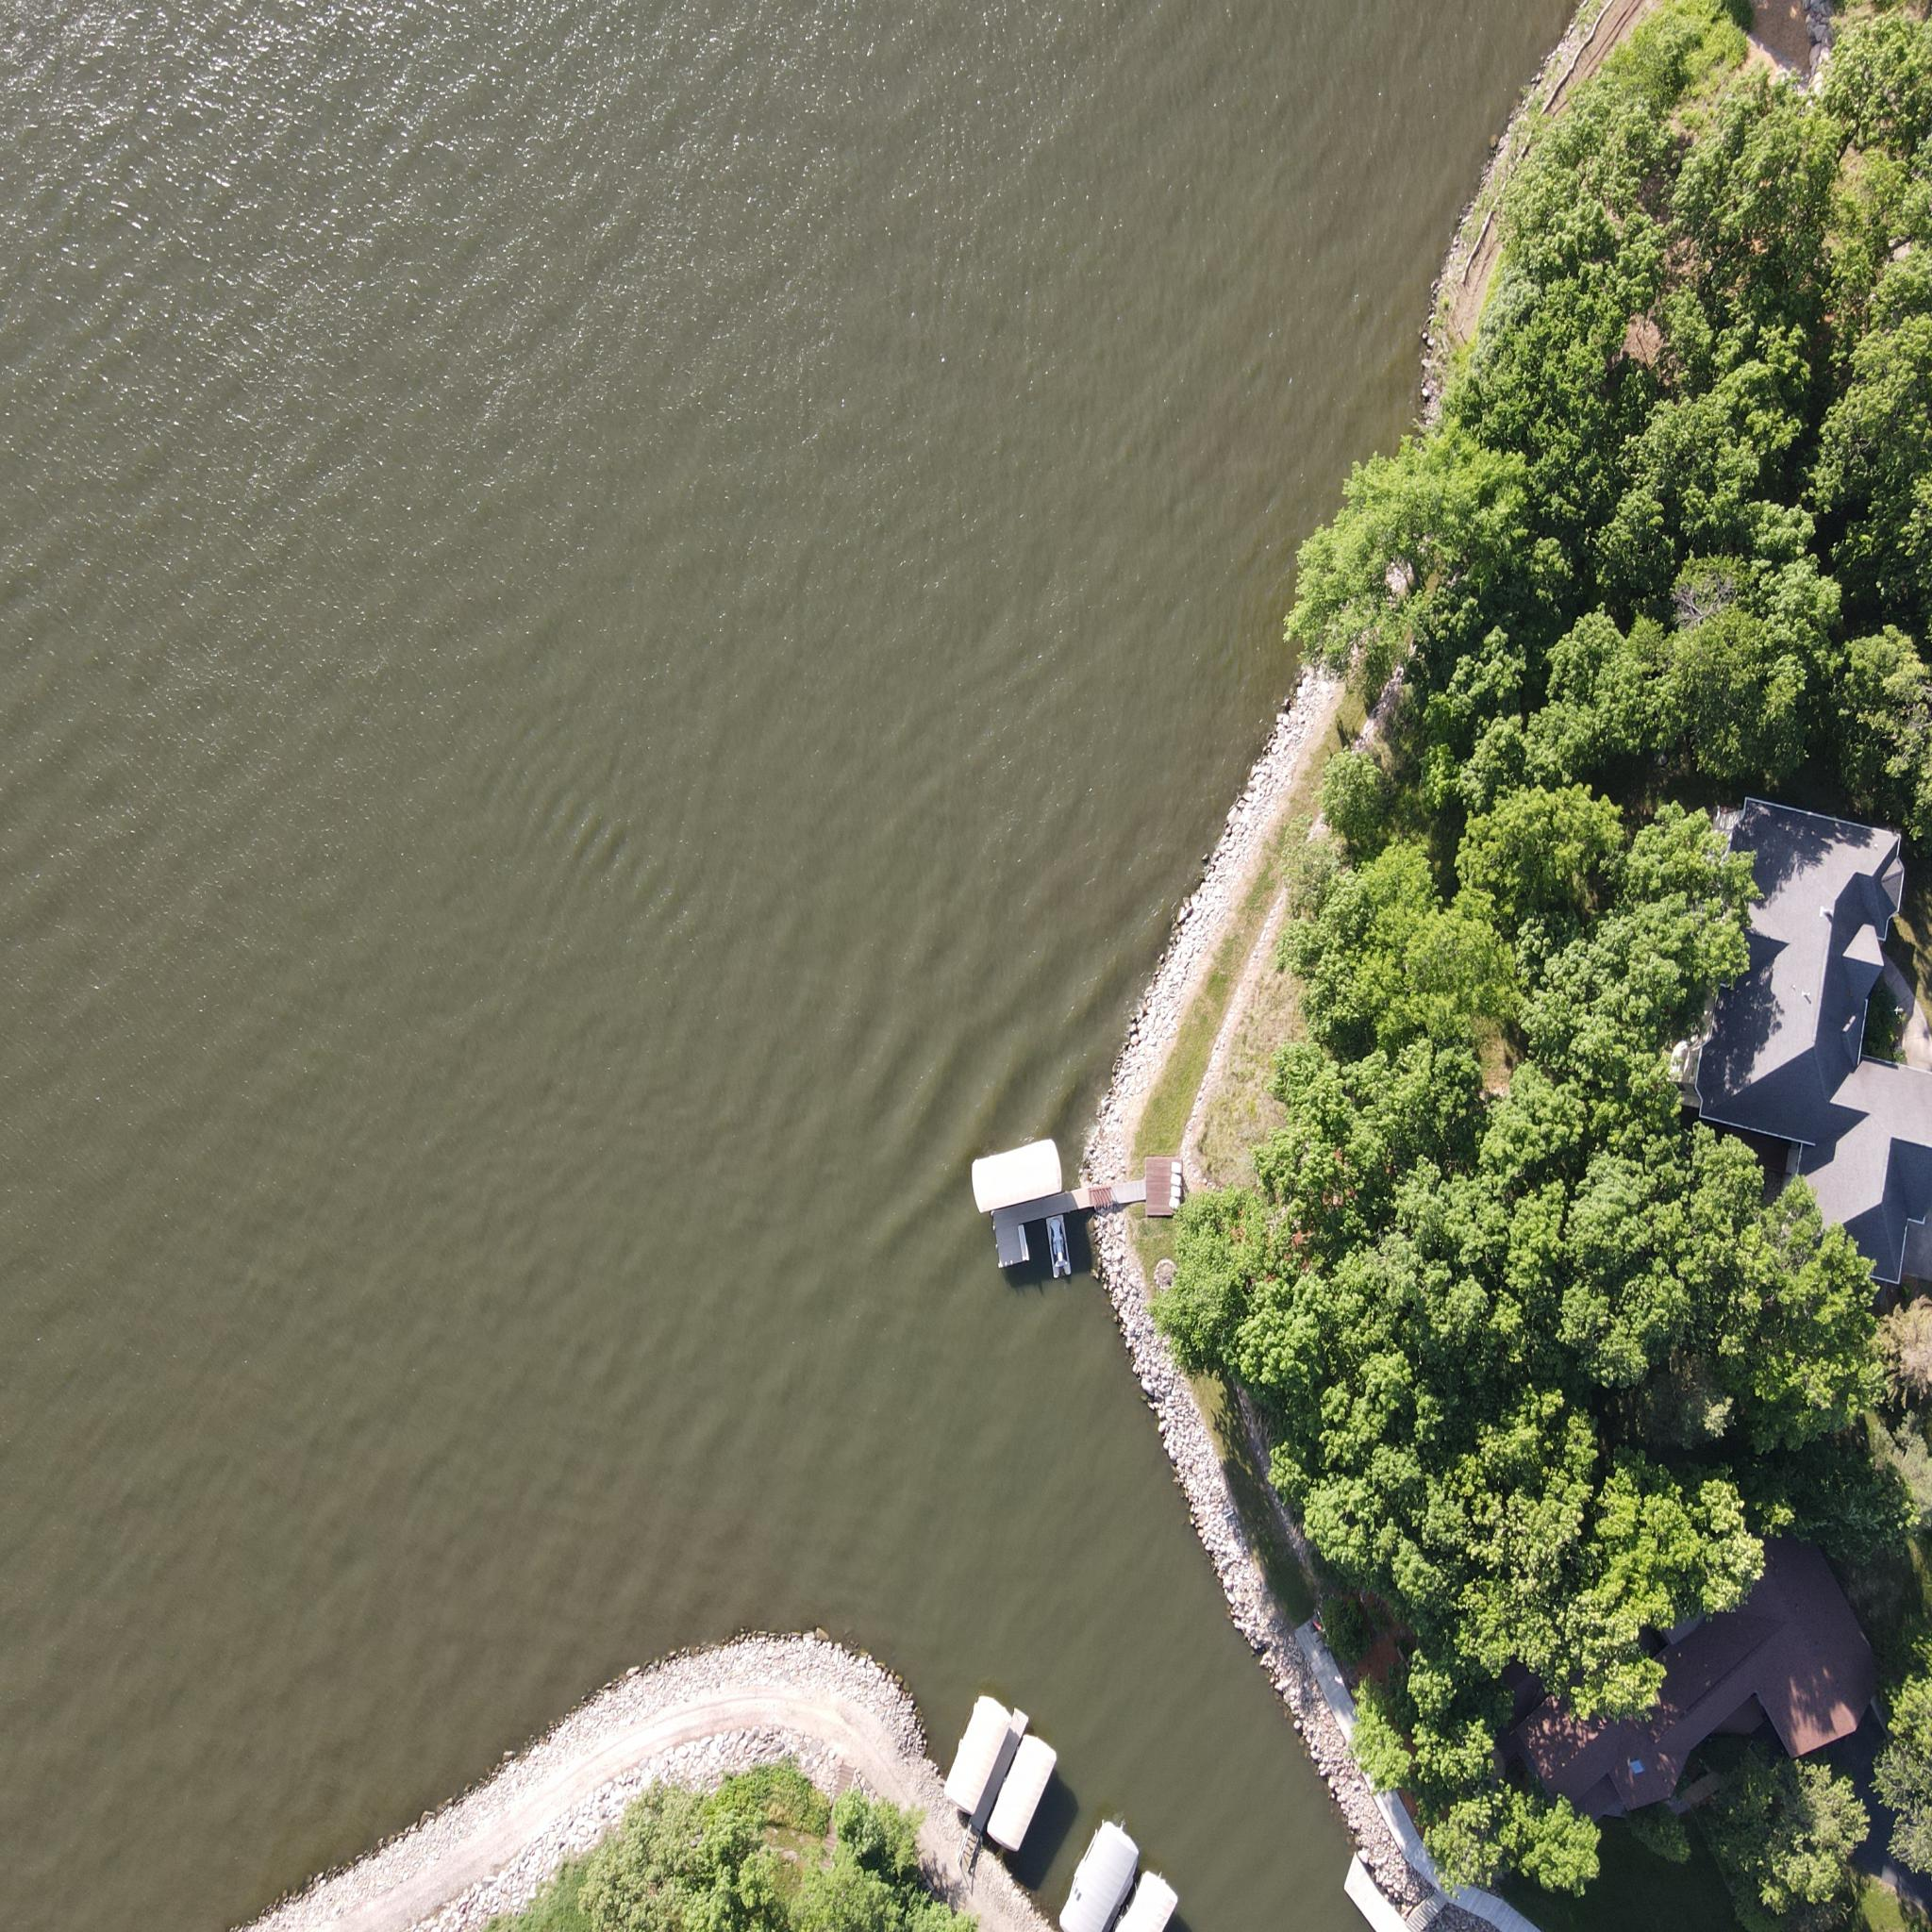dock: (984, 1166, 1164, 1311), (971, 1697, 1030, 1858), (1343, 1845, 1433, 1932)
jetski: (1042, 1208, 1077, 1283)
lift: (1060, 1792, 1132, 1932), (962, 1141, 1072, 1219), (989, 1725, 1056, 1849), (947, 1688, 1008, 1813), (1122, 1854, 1189, 1932)
